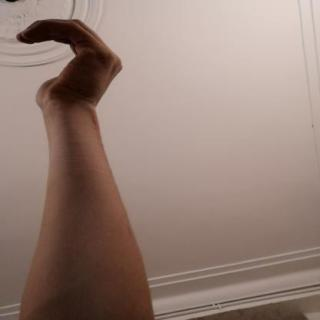HAA: (6, 9, 141, 127)
